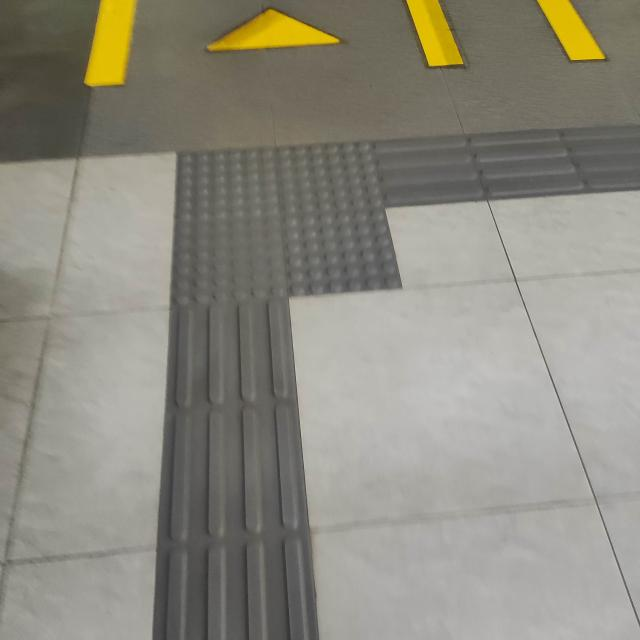kanan: (126, 92, 584, 354)
